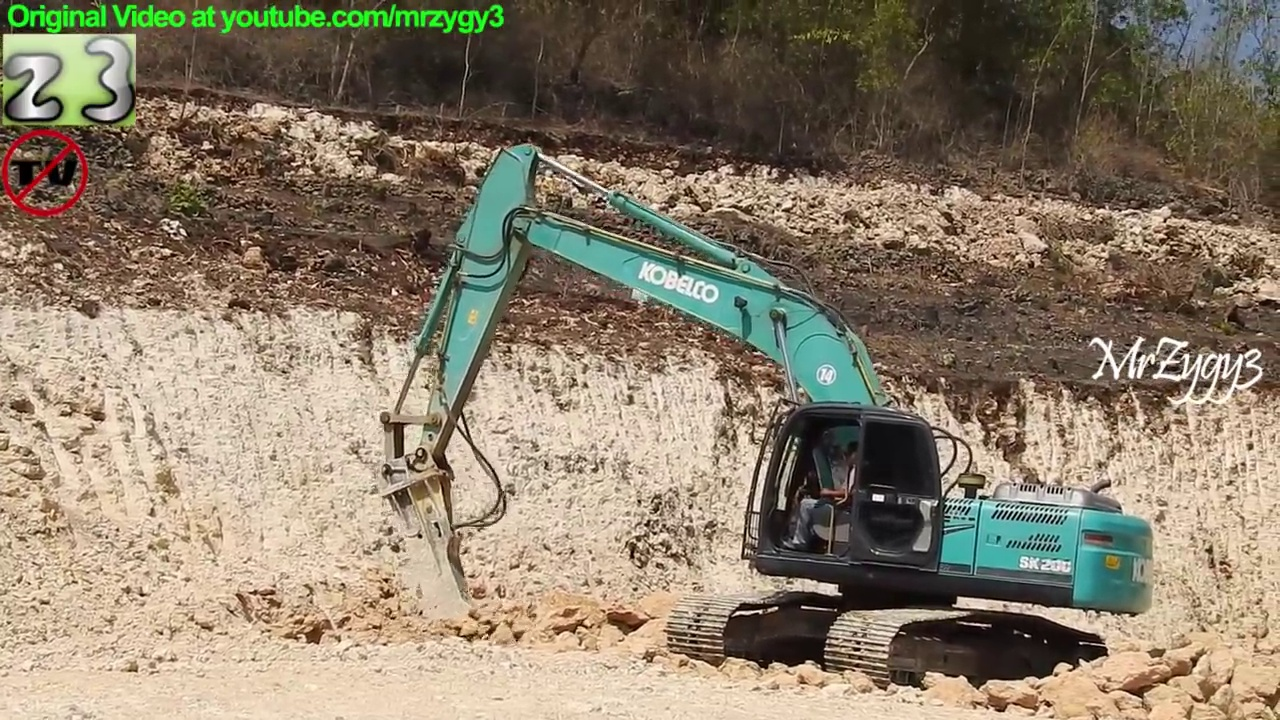excavator breaker: (368, 138, 1164, 707)
